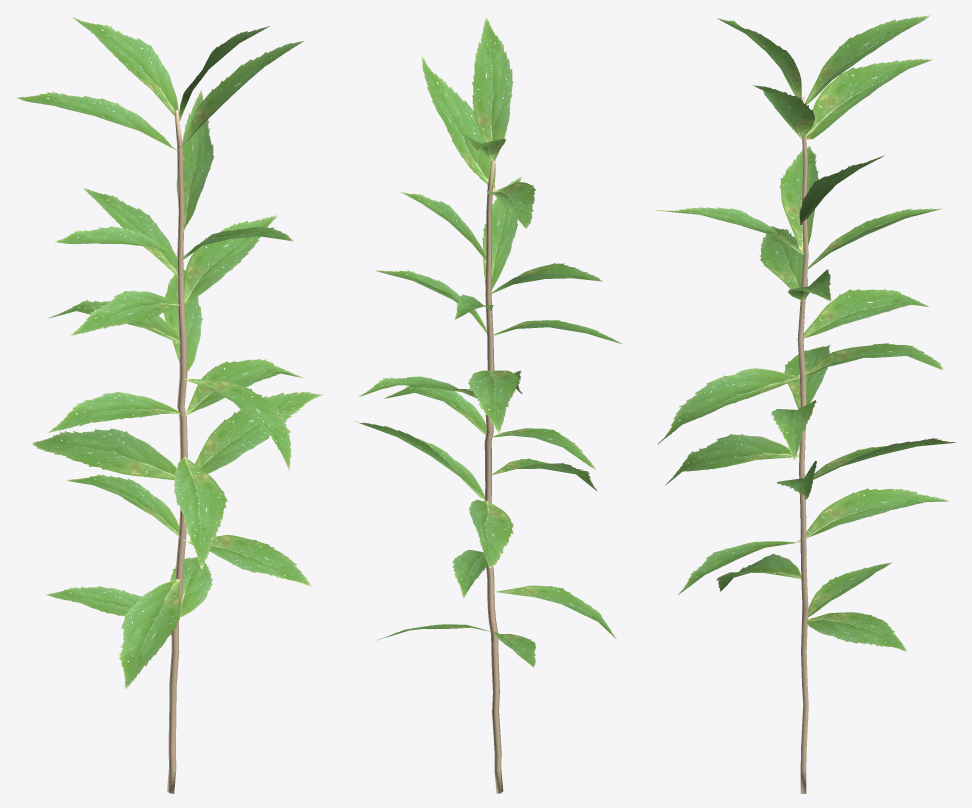
The model's file is Plant Leaf.fbx.
3 renders of one model, left to right at view 1: azimuth 30°, elevation 25°; view 2: azimuth 150°, elevation 25°; view 3: azimuth 270°, elevation 25°, orthographic. The views are drawn at different scales.
Visible parts, largest first — view 1: Cube.032; view 2: Cube.032; view 3: Cube.032.
Part boxes in pixels (<box>): Cube.032: <box>16,16,323,793</box>; Cube.032: <box>354,17,622,793</box>; Cube.032: <box>654,15,955,793</box>.
Size of the model in its own units: 40.05 by 110 by 37.63.
